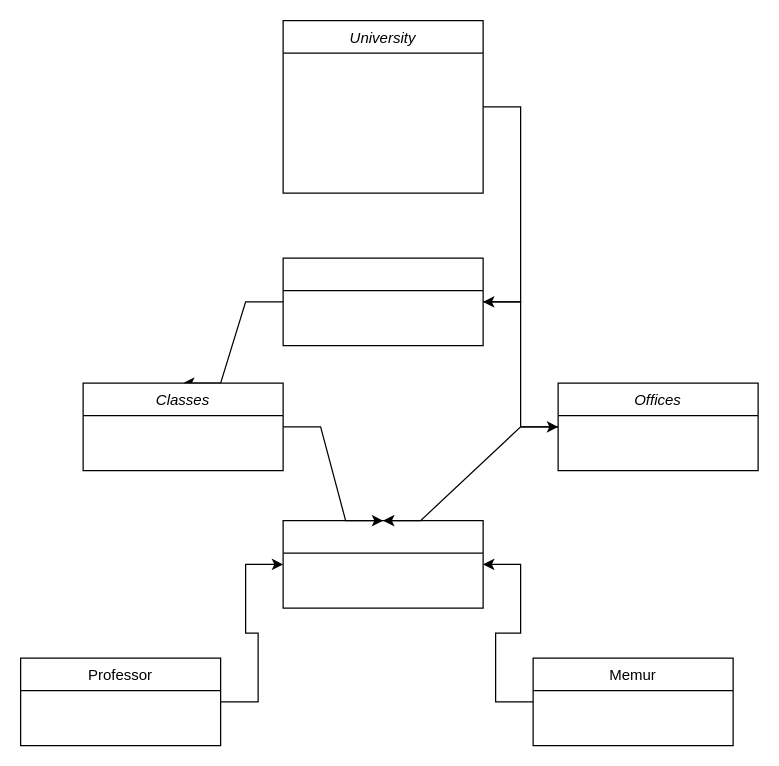
Image size: 779x766. Some labels were removed from this diagram. Here are the shapes that lost their labels. From the top down, the box of each, then its label:
(282, 257, 483, 346): Departments
(282, 519, 483, 608): Worker
